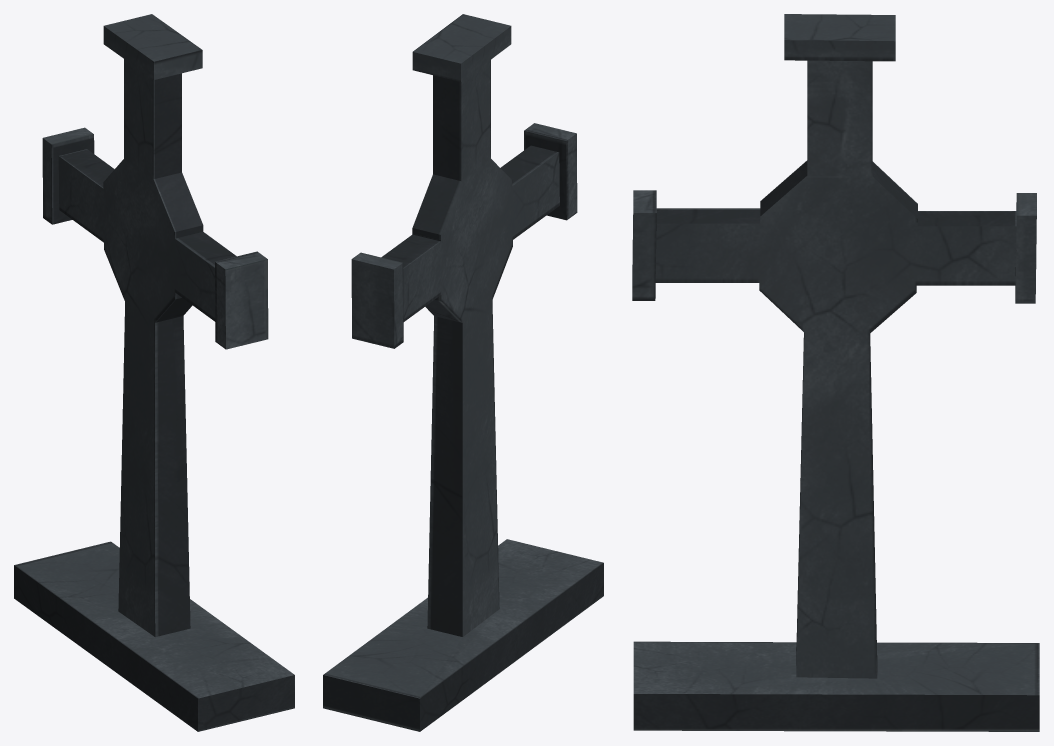
File: Gravestone2_Model.fbx
3 renders of one model, left to right at view 1: azimuth 30°, elevation 25°; view 2: azimuth 150°, elevation 25°; view 3: azimuth 270°, elevation 25°, orthographic. The views are drawn at different scales.
Parts seen in each view (by area): view 1: Gravestone2; view 2: Gravestone2; view 3: Gravestone2.
Part boxes in pixels (<box>): Gravestone2: <box>14,14,294,731</box>; Gravestone2: <box>323,14,603,731</box>; Gravestone2: <box>632,14,1039,731</box>.
Size of the model in its own units: 9.3 by 56.44 by 30.69.
